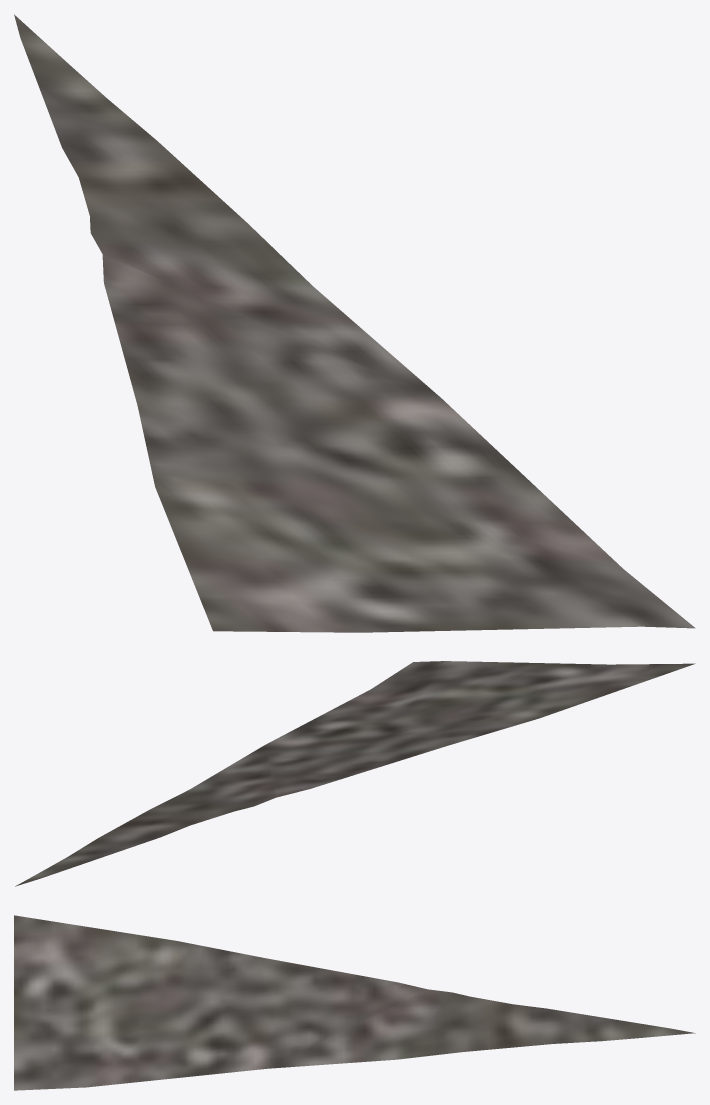
3 views of the same model, one above another, from view 1: azimuth 30°, elevation 25°; view 2: azimuth 150°, elevation 25°; view 3: azimuth 270°, elevation 25° (orthographic). The views are drawn at different scales.
Size of the model in its own units: 0.1638 by 0.0373 by 0.4007.
1 material, 1 textured.
